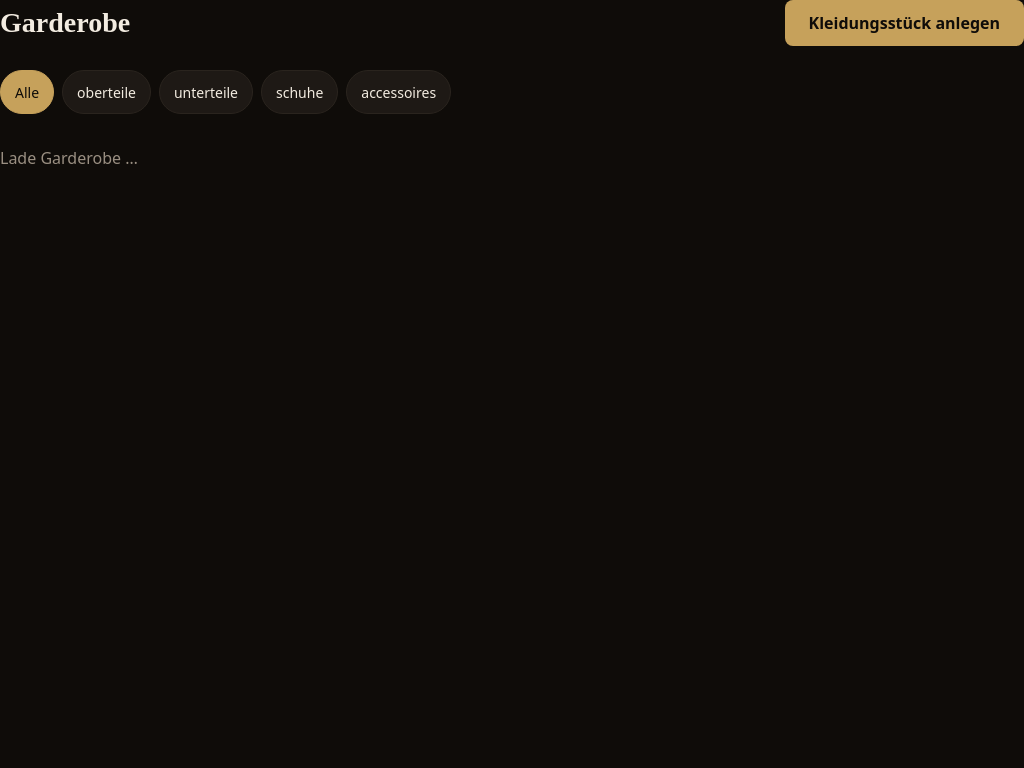
Test case: WardrobePage – Fehlermeldungen › zeigt die Server-Validierungsmeldung bei 422 an
Step 1. Click the button "Kleidungsstück anlegen" → (904, 23), box left=785, top=0, right=1023, bottom=46
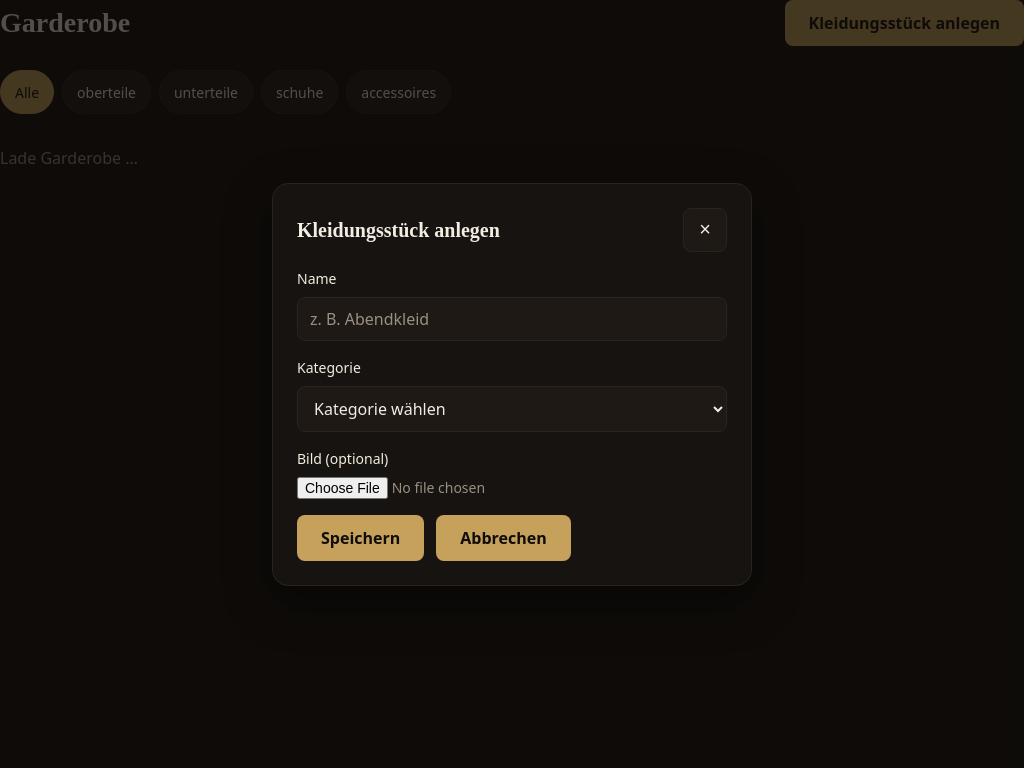
Expected: the field labelled "Name" is shown
Step 2. Type "Abendkleid" into the field labelled "Name" → (512, 318), box left=297, top=296, right=727, bottom=340
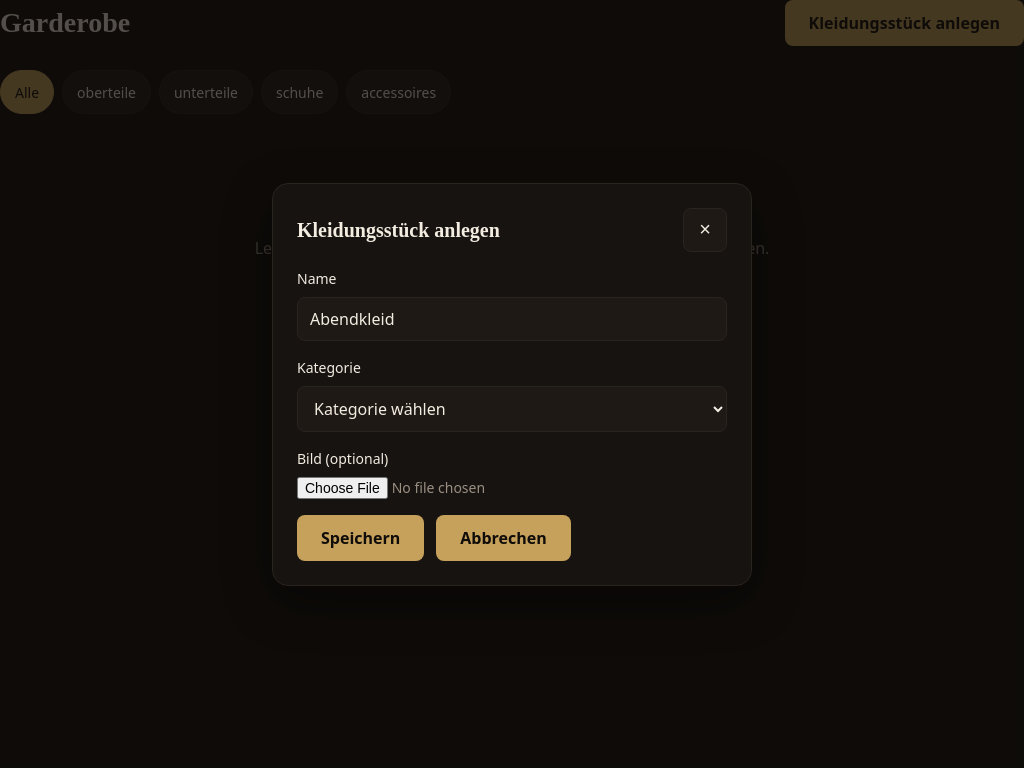
Step 3. Select "oberteile" in the dropdown labelled "Kategorie" → (512, 408), box left=297, top=386, right=727, bottom=432
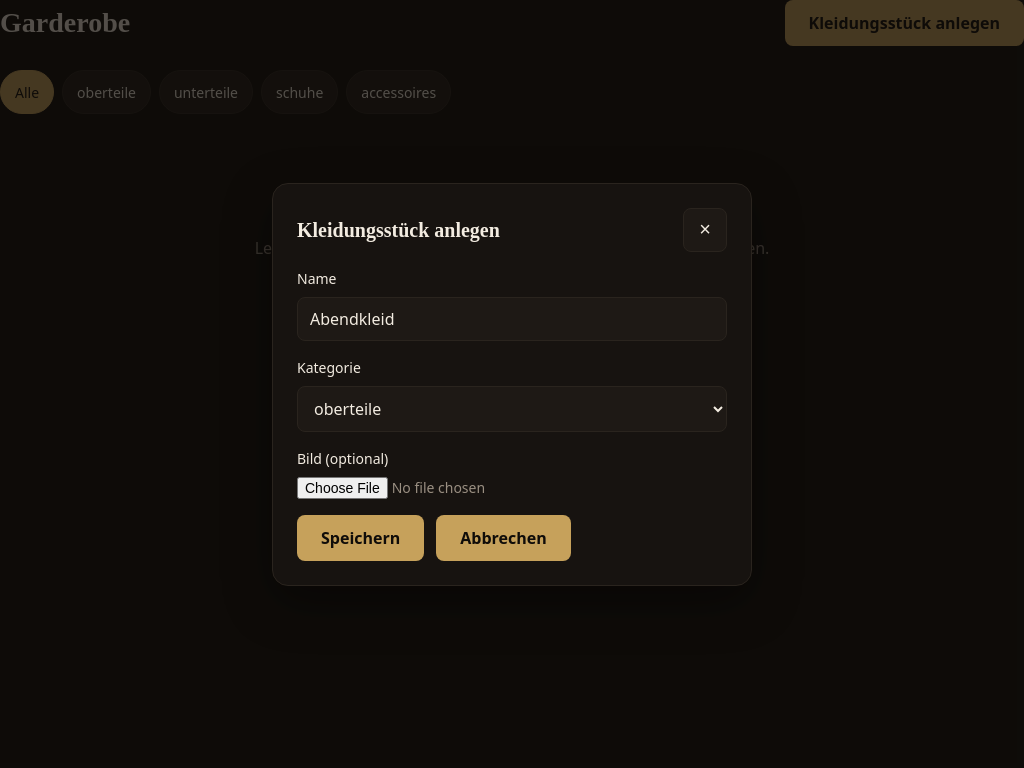
Step 4. Click the button "Speichern" → (361, 538), box left=297, top=514, right=424, bottom=560
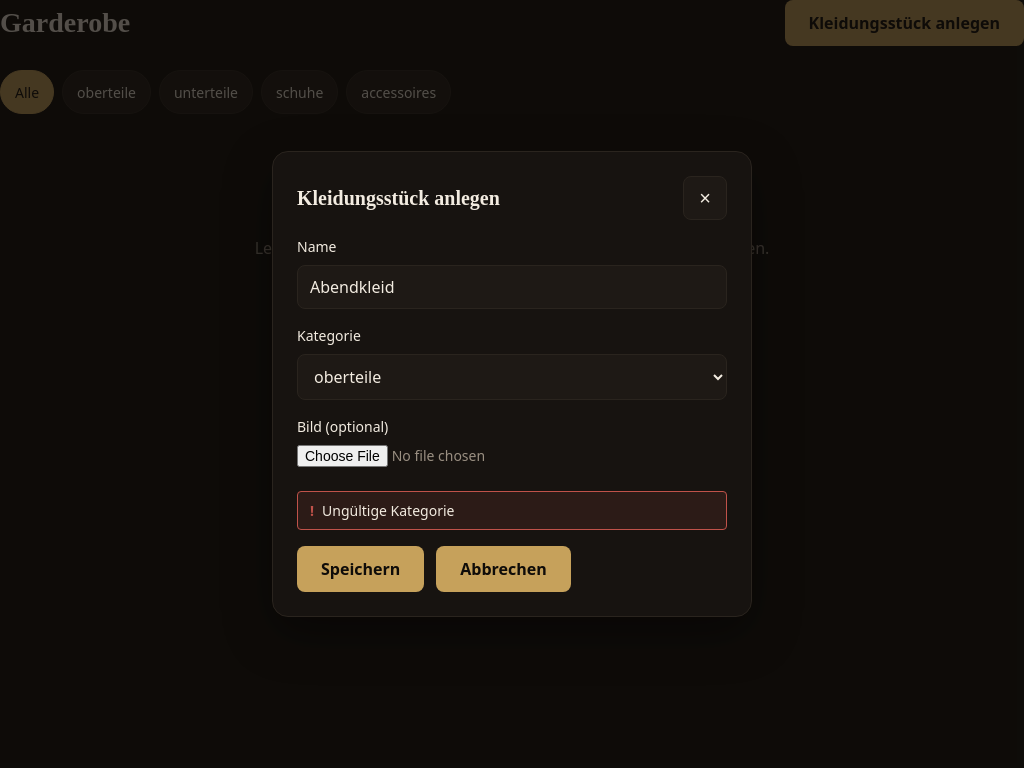
Expected: the text "Ungültige Kategorie" is shown, left=322, top=501, right=454, bottom=520
